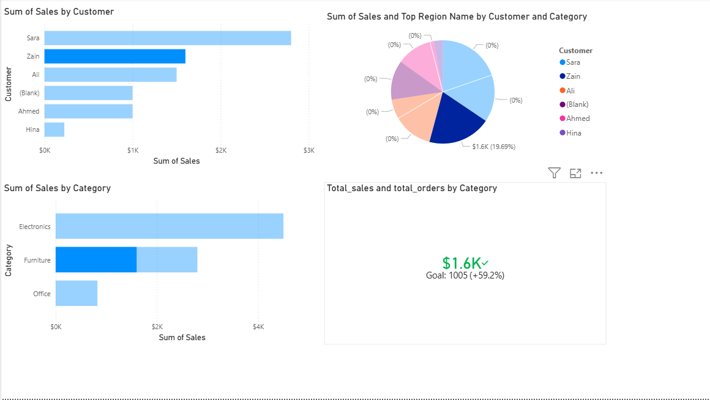

This screenshot's page, from the dashboard's own definition file:
{"tool":"powerbi","page":{"name":"Page 1","canvas":[1280,720],"ordinal":0},"visuals":[{"type":"barChart","fields":{"Category":["Sales_Practice_Dataset.Customer"],"Y":["Sum(Sales_Practice_Dataset.Sales)"]},"box":[0,13.7,566.7,292.3],"z":0},{"type":"barChart","fields":{"Category":["Sales_Practice_Dataset.Category"],"Y":["Sum(Sales_Practice_Dataset.Sales)"]},"box":[0,330.7,566.7,292.3],"z":1000},{"type":"pieChart","fields":{"Y":["Sum(Sales_Practice_Dataset.Sales)"],"Category":["Sales_Practice_Dataset.Customer"],"Series":["Sales_Practice_Dataset.Category"]},"box":[579.1,22,506.3,274.4],"z":1001},{"type":"kpi","fields":{"TrendLine":["Sales_Practice_Dataset.Category"],"Indicator":["Sales_Practice_Dataset.Total_sales"],"Goal":["Sales_Practice_Dataset.total_orders"]},"box":[579.1,330.7,506.3,292.3],"z":1002}]}

Visuals, with their boxes in screenshot pixels (x1, y1, x2, y2), scaled from the page's 1280x720 canvas onto the 710x400 screenshot:
barChart - Sales_Practice_Dataset.Customer x Sum(Sales_Practice_Dataset.Sales): (0, 8, 314, 170)
barChart - Sales_Practice_Dataset.Category x Sum(Sales_Practice_Dataset.Sales): (0, 184, 314, 346)
pieChart - Sum(Sales_Practice_Dataset.Sales) x Sales_Practice_Dataset.Customer: (321, 12, 602, 165)
kpi - Sales_Practice_Dataset.Category x Sales_Practice_Dataset.Total_sales: (321, 184, 602, 346)
